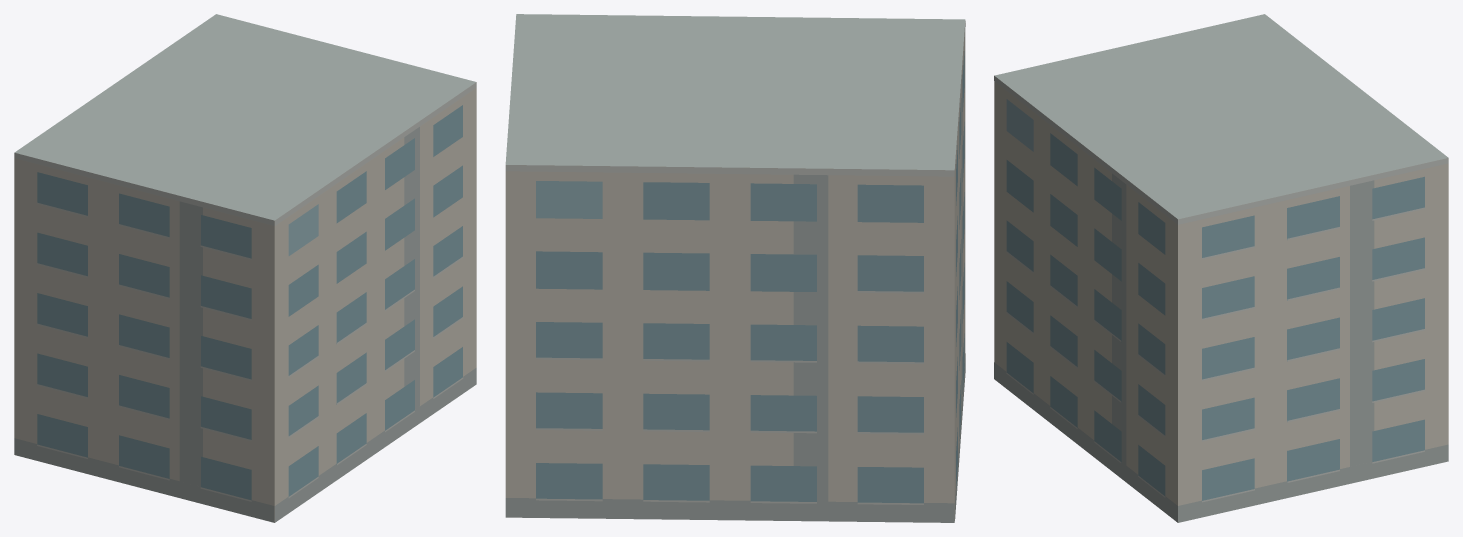
The model's file is survey-upis-32968060.glb.
3 views of the same model, side by side, from view 1: azimuth 30°, elevation 25°; view 2: azimuth 150°, elevation 25°; view 3: azimuth 270°, elevation 25° (orthographic). The views are drawn at different scales.
Visible parts, largest first — view 1: survey-upis-32968060.tmp; view 2: survey-upis-32968060.tmp; view 3: survey-upis-32968060.tmp.
Part boxes in pixels (bbox=[...]): survey-upis-32968060.tmp: bbox=[14, 14, 476, 522]; survey-upis-32968060.tmp: bbox=[505, 14, 965, 522]; survey-upis-32968060.tmp: bbox=[994, 14, 1448, 522].
Size of the model in its own units: 19.38 by 13.35 by 18.13.
